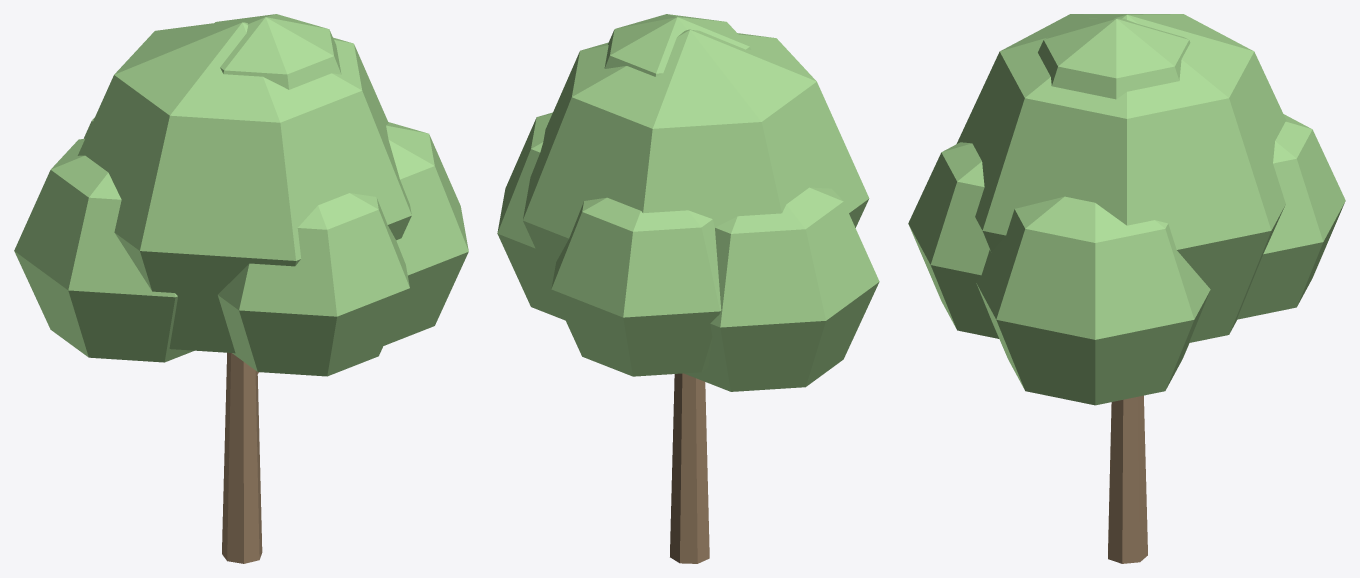
File: tree_oak_l.glb
3 renders of one model, left to right at view 1: azimuth 30°, elevation 25°; view 2: azimuth 150°, elevation 25°; view 3: azimuth 270°, elevation 25°, orthographic. The views are drawn at different scales.
Parts seen in each view (by area): view 1: leaves, trunk; view 2: leaves, trunk; view 3: leaves, trunk.
Part boxes in pixels (box(x1,y1,x2,y2)): leaves: box(14, 14, 468, 376); trunk: box(222, 352, 262, 563); leaves: box(497, 14, 879, 391); trunk: box(670, 373, 709, 563); leaves: box(908, 14, 1345, 405); trunk: box(1108, 395, 1147, 563).
Bounding box in the file's own units: 4.28 × 5.7 × 4.14.
